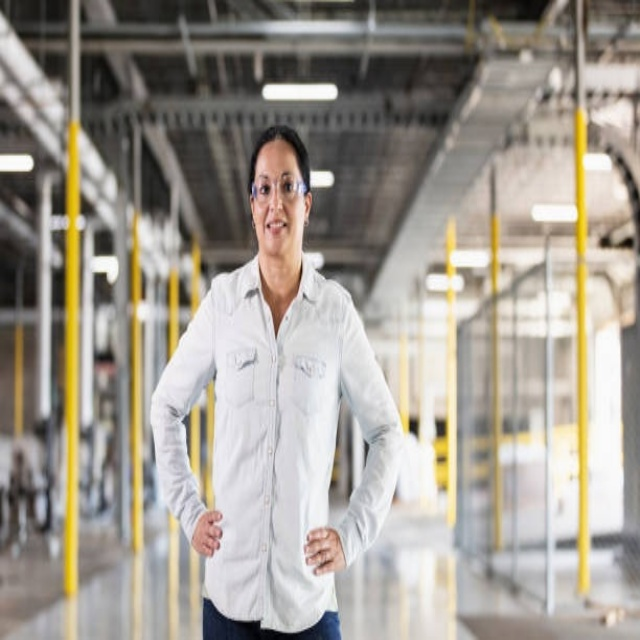Gafas: (251, 177, 309, 204)
Sin_guantes: (303, 523, 345, 577), (191, 504, 225, 562)
Sin_mascara: (264, 220, 287, 235)
